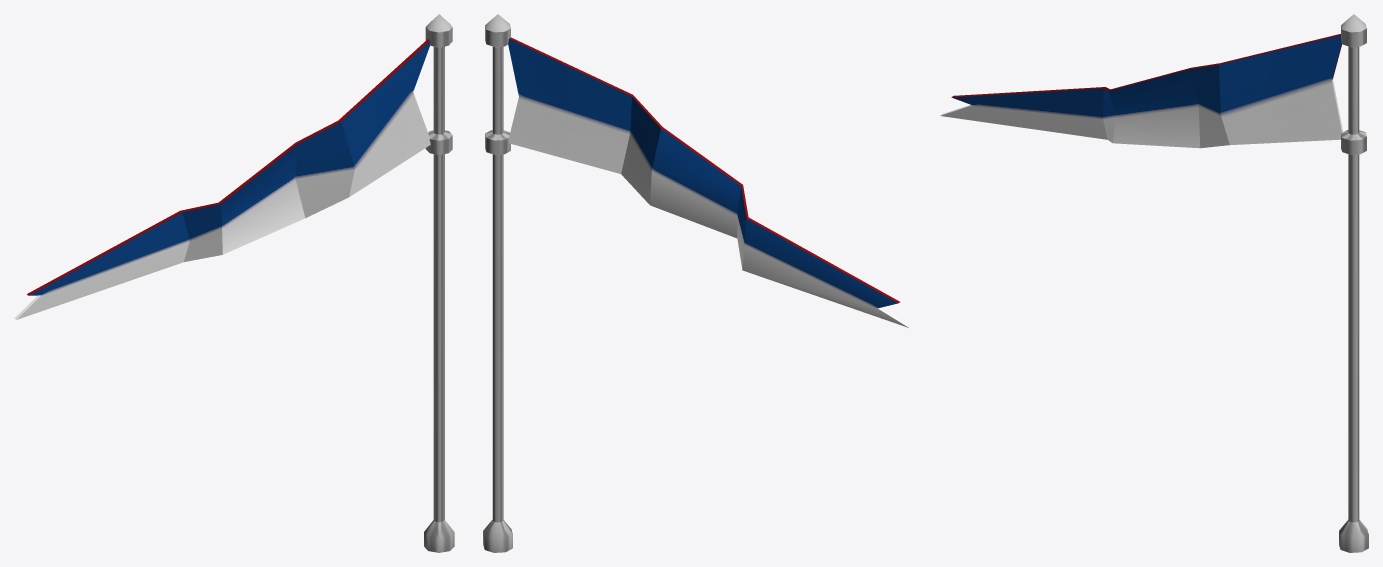
The model's file is ARC0510129.fbx.
3 renders of one model, left to right at view 1: azimuth 30°, elevation 25°; view 2: azimuth 150°, elevation 25°; view 3: azimuth 330°, elevation 25°, orthographic.
Visible parts, largest first — view 1: smARC0510129; view 2: smARC0510129; view 3: smARC0510129.
Part boxes in pixels (x1,y1,x2,y2): smARC0510129: (14,14,454,552); smARC0510129: (483,14,911,552); smARC0510129: (940,14,1368,552).
Bounding box in the file's own units: 442 × 521 × 61.04.
1 material, 1 textured.
